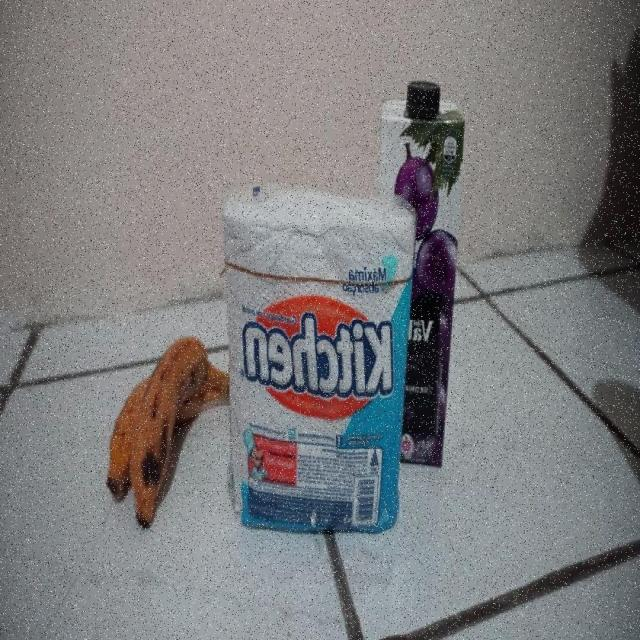Banana: (105, 334, 232, 528)
Napkin: (220, 192, 418, 534)
